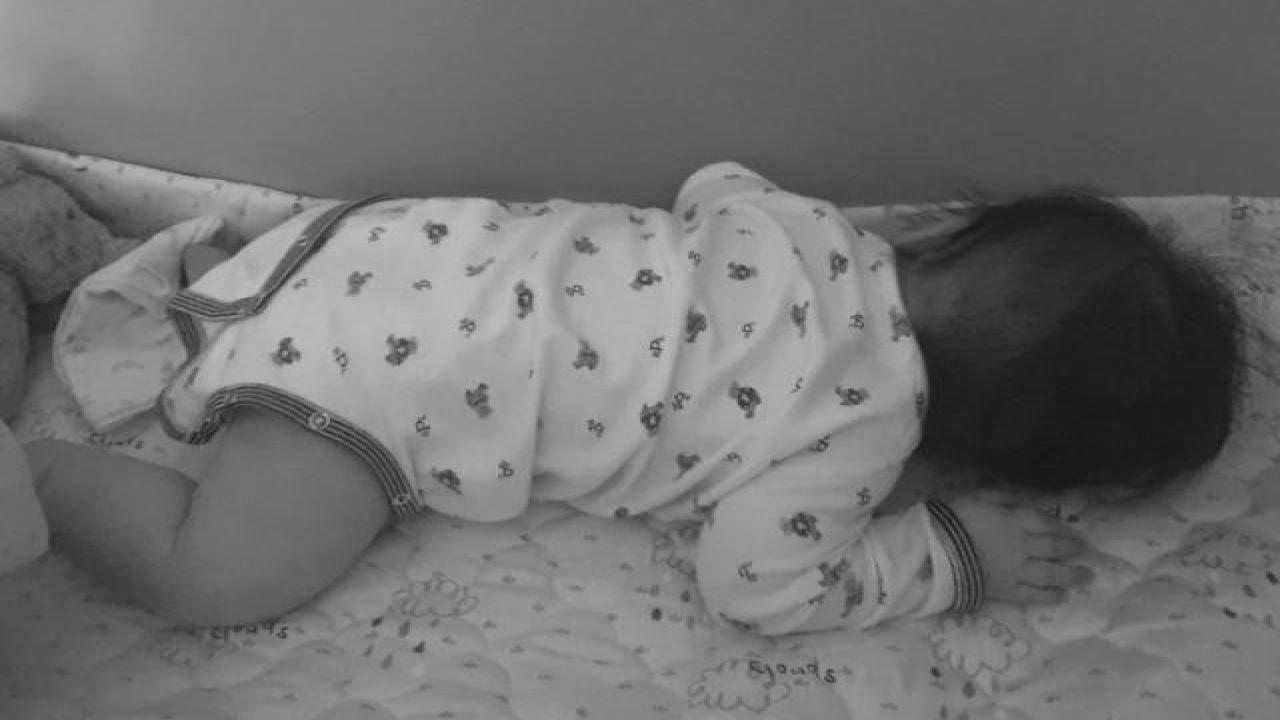hand: (960, 492, 1097, 612)
